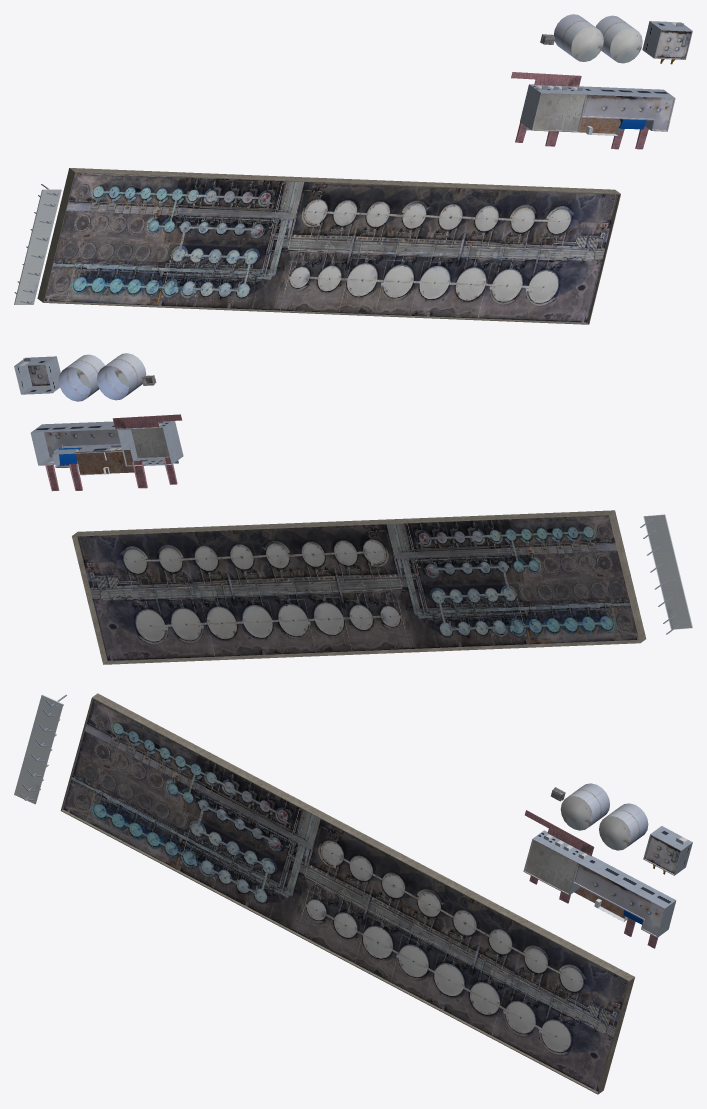
The model's file is building_p5_06.fbx.
3 renders of one model, top to bottom at view 1: azimuth 30°, elevation 25°; view 2: azimuth 150°, elevation 25°; view 3: azimuth 330°, elevation 25°, orthographic.
Parts seen in each view (by area): view 1: Building_P5_06; view 2: Building_P5_06; view 3: Building_P5_06.
Part boxes in pixels (x1,y1,x2,y2): Building_P5_06: (14, 14, 692, 324); Building_P5_06: (14, 353, 692, 664); Building_P5_06: (14, 693, 692, 1094).
Size of the model in its own units: 25303 by 10953 by 1275.
